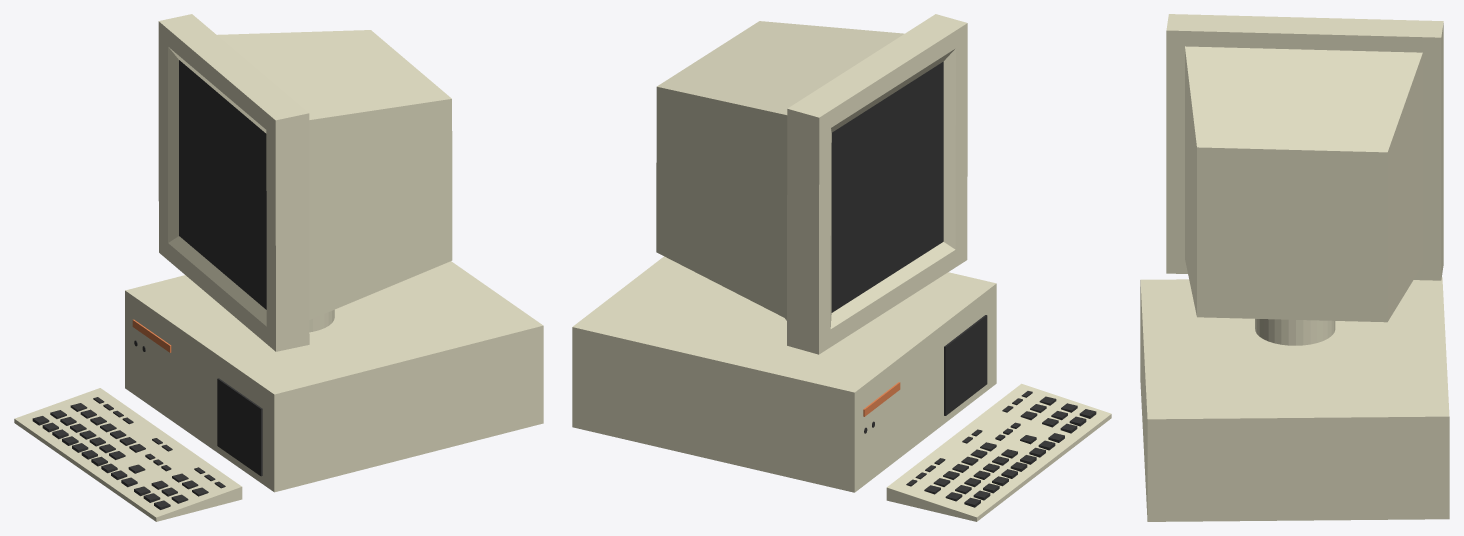
The model's file is computer.gltf.
3 views of the same model, side by side, from view 1: azimuth 30°, elevation 25°; view 2: azimuth 150°, elevation 25°; view 3: azimuth 270°, elevation 25° (orthographic). The views are drawn at different scales.
Parts seen in each view (by area): view 1: node-0; view 2: node-0; view 3: node-0.
Boxes of the visible parts, left/top/right/bottom form: node-0: left=14, top=14, right=543, bottom=521; node-0: left=572, top=14, right=1111, bottom=521; node-0: left=1140, top=14, right=1449, bottom=521.
Bounding box in the file's own units: 5.95 × 5.24 × 3.87.
